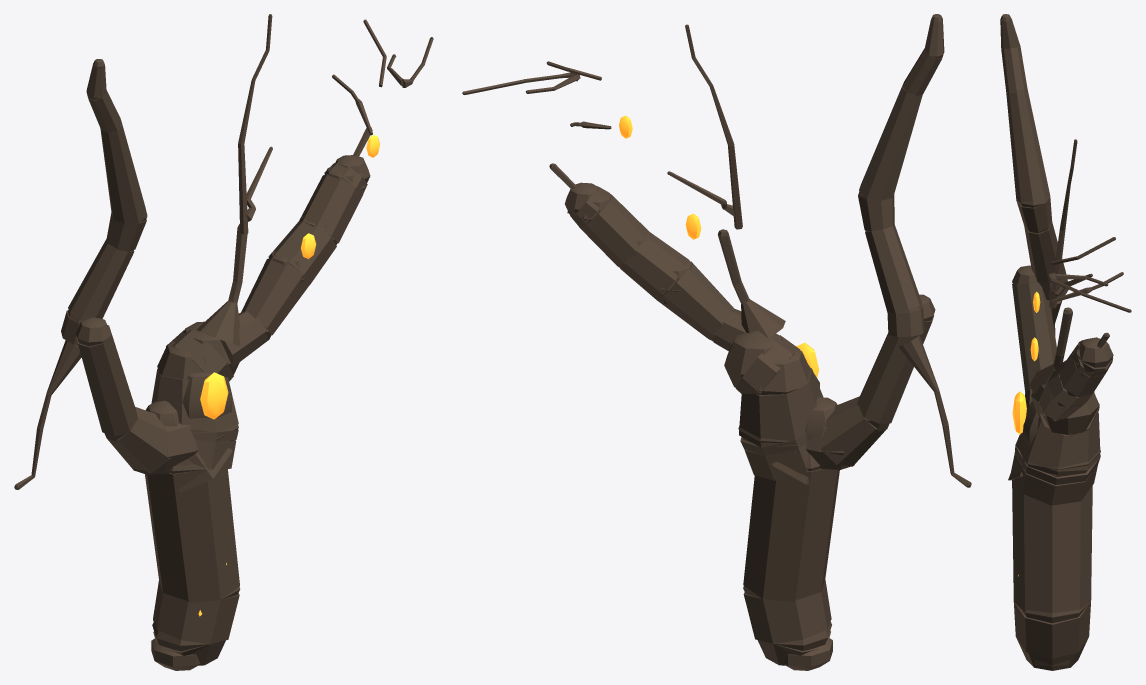
File: ashland-lichen-tree-flaming.glb
The picture shows the model from 3 angles, left to right: view 1: azimuth 30°, elevation 25°; view 2: azimuth 150°, elevation 25°; view 3: azimuth 270°, elevation 25°; orthographic projection. The views are drawn at different scales.
Visible parts, largest first — view 1: body; view 2: body; view 3: body.
Part boxes in pixels (bbox=[...]): body: bbox=[14, 14, 433, 670]; body: bbox=[462, 14, 971, 670]; body: bbox=[1000, 14, 1131, 670].
Size of the model in its own units: 3.17 by 4.3 by 0.849.
